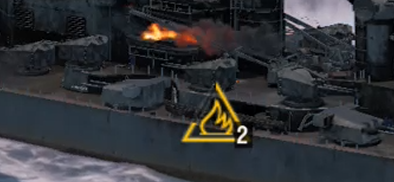2fire: (178, 102, 253, 149)
